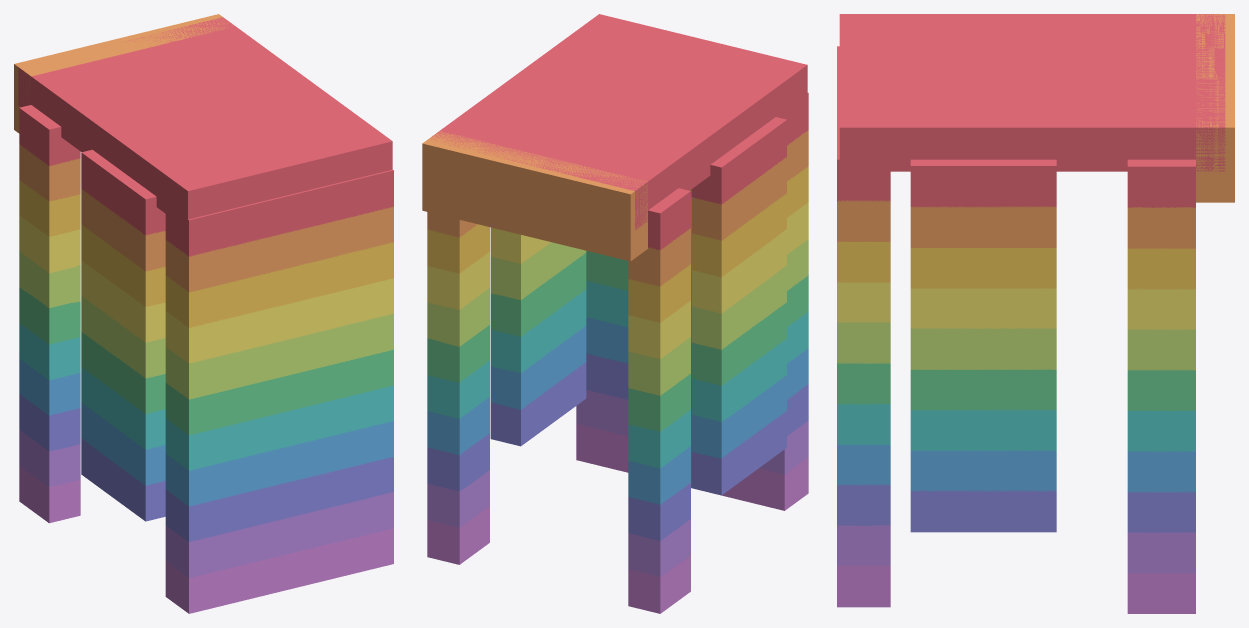
File: peruca_arco_iris.glb
The picture shows the model from 3 angles, left to right: view 1: azimuth 30°, elevation 25°; view 2: azimuth 150°, elevation 25°; view 3: azimuth 270°, elevation 25°; orthographic projection. The views are drawn at different scales.
Visible parts, largest first — view 1: peruca_arco_iris; view 2: peruca_arco_iris; view 3: peruca_arco_iris.
Boxes of the visible parts, <box> form: peruca_arco_iris: <box>14,14,393,613</box>; peruca_arco_iris: <box>422,14,808,613</box>; peruca_arco_iris: <box>837,14,1234,613</box>.
Size of the model in its own units: 0.617 by 1.09 by 0.817.
